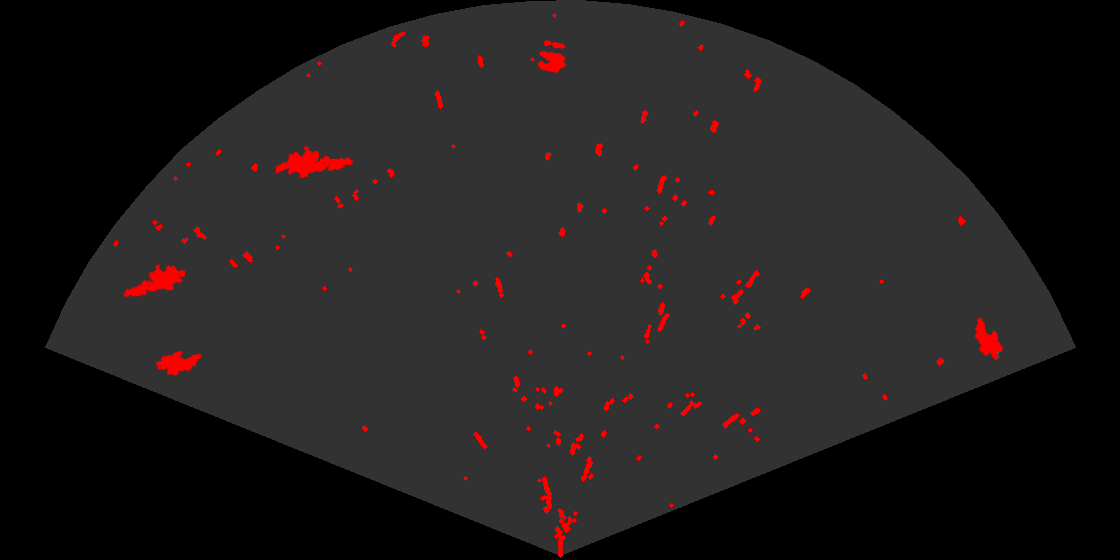AUV: (973, 316, 1005, 362), (154, 349, 203, 377)
ball: (536, 39, 567, 75)
frogman: (276, 144, 355, 180), (122, 262, 185, 299)
